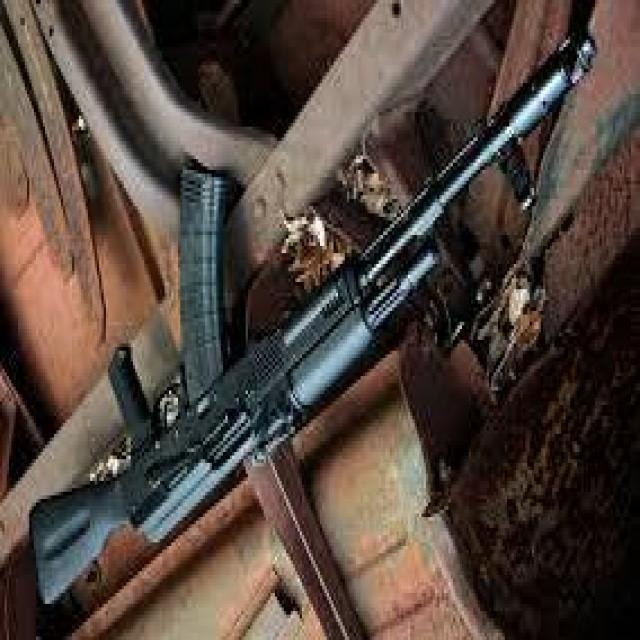weapon: (29, 28, 598, 606)
